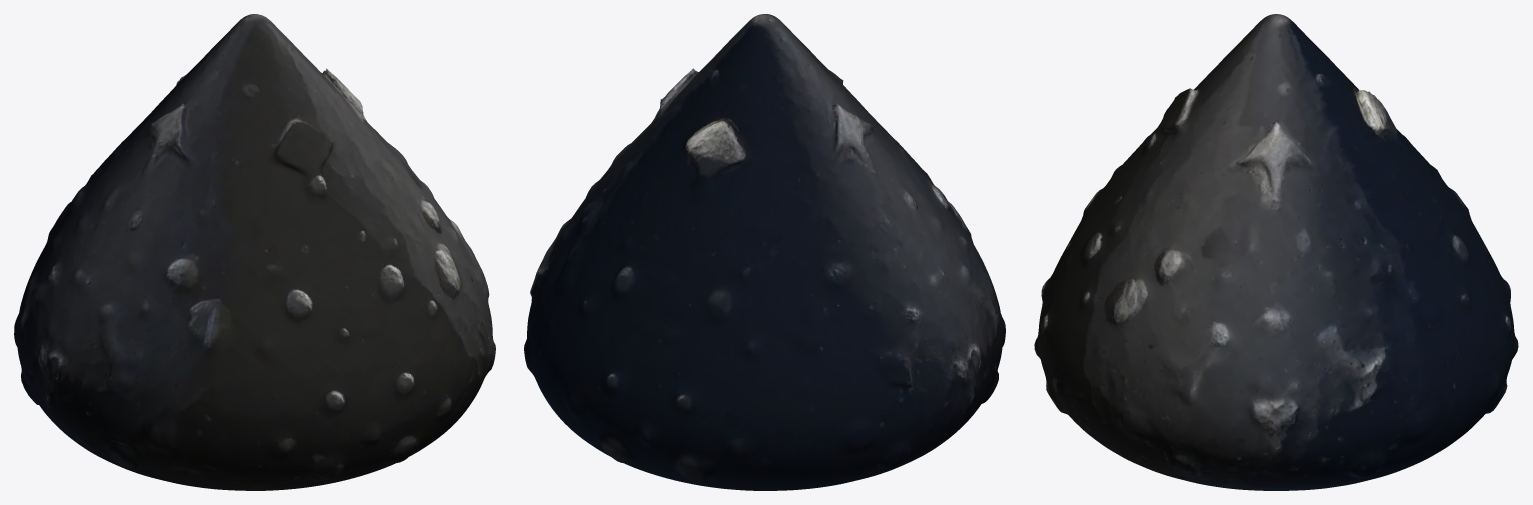
File: skillgem-uncut.glb
3 renders of one model, left to right at view 1: azimuth 30°, elevation 25°; view 2: azimuth 150°, elevation 25°; view 3: azimuth 270°, elevation 25°, orthographic.
Bounding box in the file's own units: 1.99 × 1.95 × 2.01.
1 material, 1 textured.
